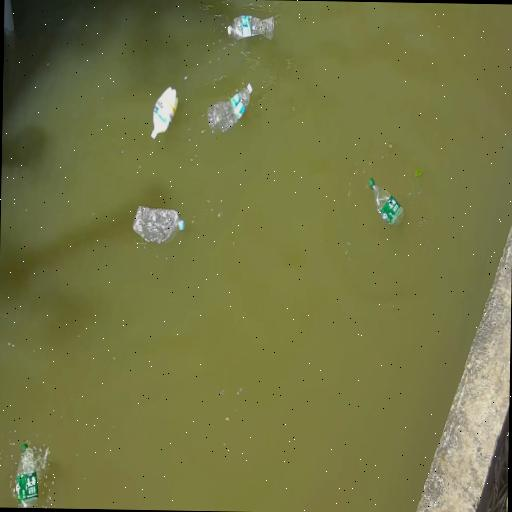plastic: (206, 82, 252, 134), (133, 206, 184, 244), (369, 178, 403, 225), (15, 444, 39, 507), (152, 87, 178, 139), (228, 16, 274, 39)
